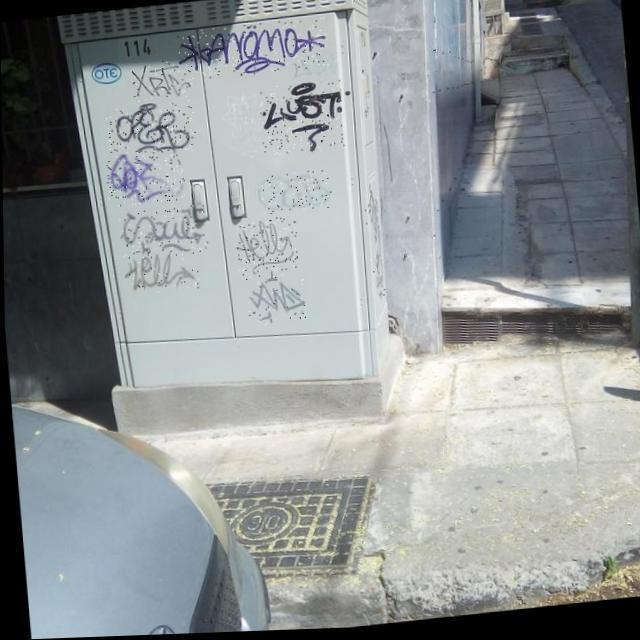-: (174, 18, 328, 82), (257, 81, 345, 160), (104, 100, 196, 162), (118, 205, 208, 261), (104, 150, 185, 208), (233, 218, 299, 278), (255, 170, 332, 217), (244, 270, 306, 328), (121, 252, 198, 296), (130, 59, 193, 103), (362, 184, 385, 302)
